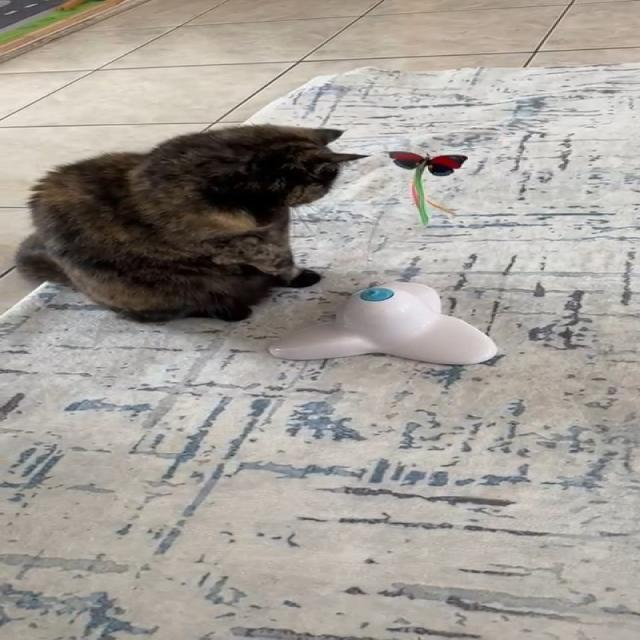authorized: (13, 122, 372, 323)
